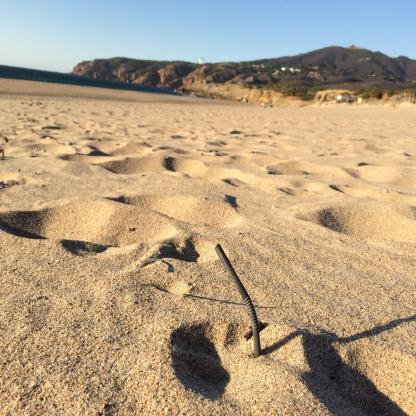plastik: (215, 244, 264, 360)
